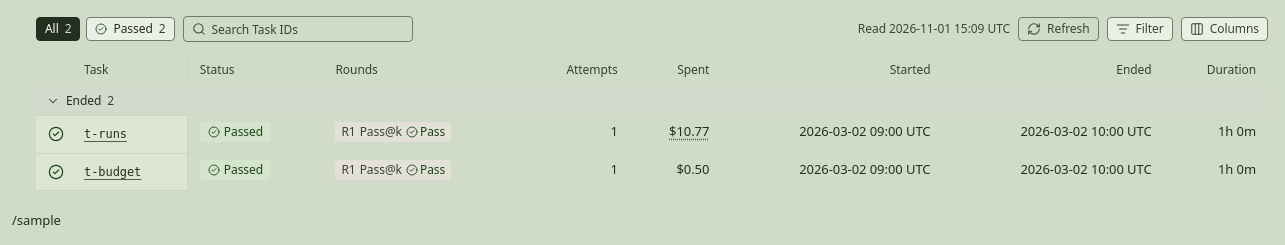
the home page › says on focus that a cost is its runs' when its record has no budget
Focus the text "$10.77": (689, 131) top-left (669, 122), bottom-right (709, 141)
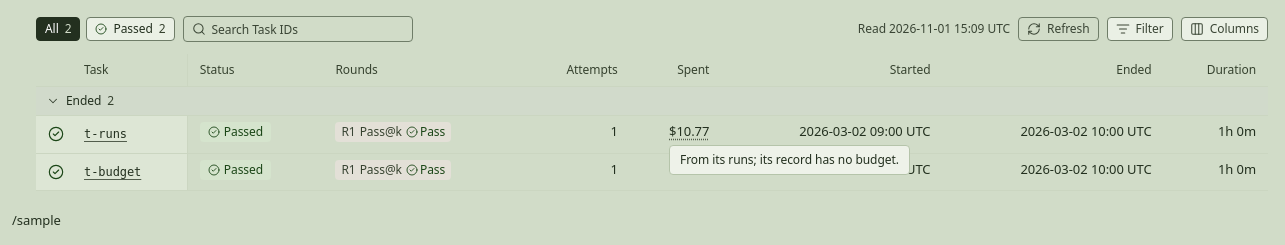
Expected: the tooltip reads "From its runs; its record has no budget.", top-left (680, 151), bottom-right (899, 168)
